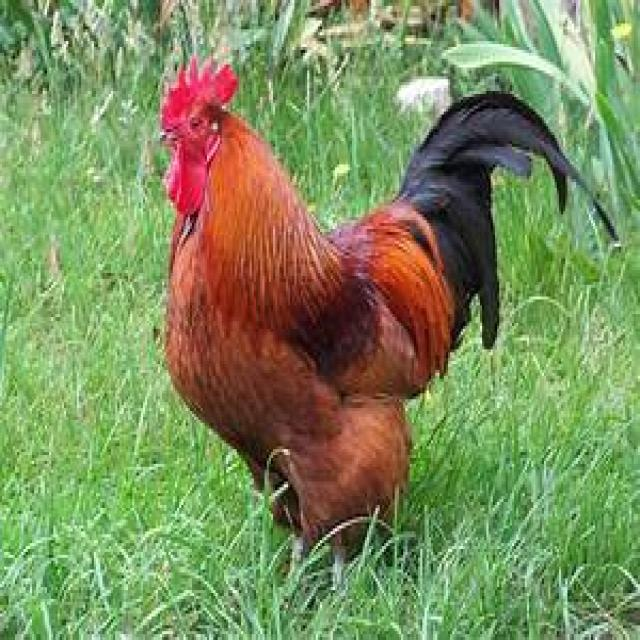chicken: (162, 56, 536, 586)
